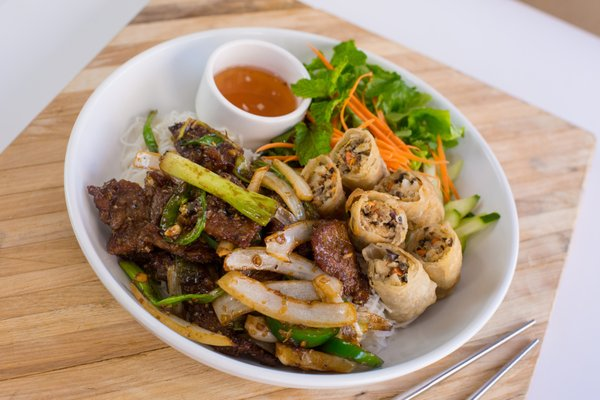sushi: (63, 25, 444, 389), (194, 38, 311, 145)
